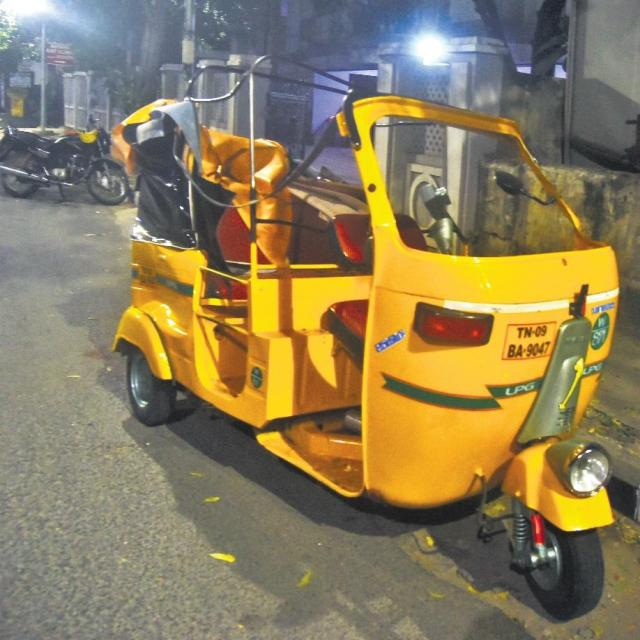accident: (112, 56, 621, 623)
motorcycle: (0, 127, 129, 205)
